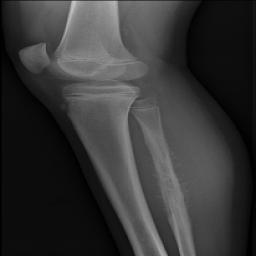cancer: (154, 147, 192, 235)
